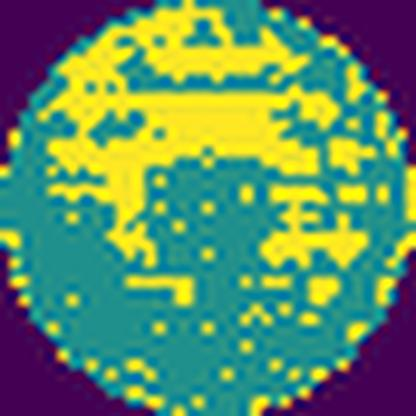Donut: (39, 0, 384, 319)
